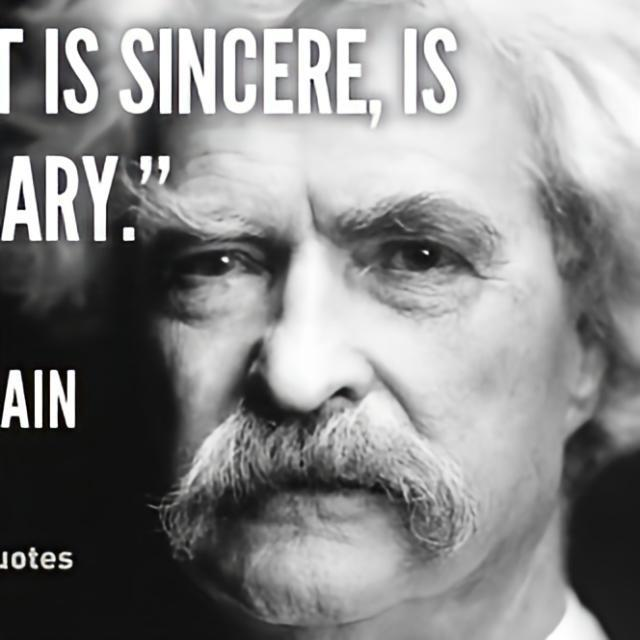anger: (105, 44, 585, 635)
